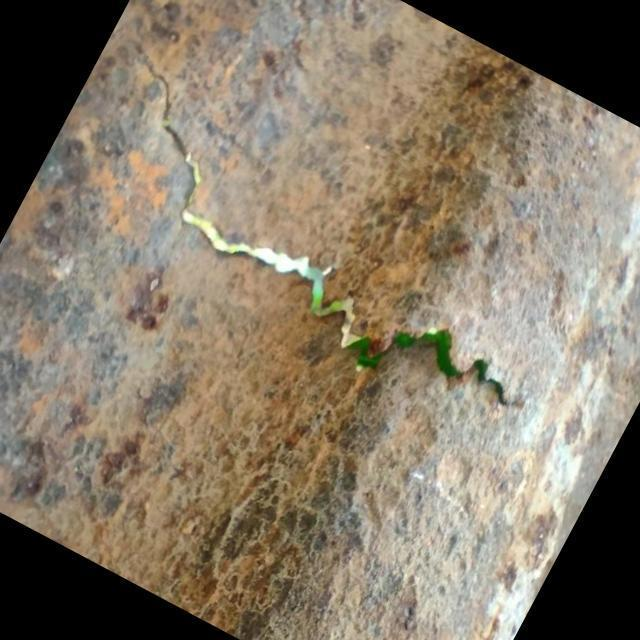defect: (129, 41, 517, 410)
